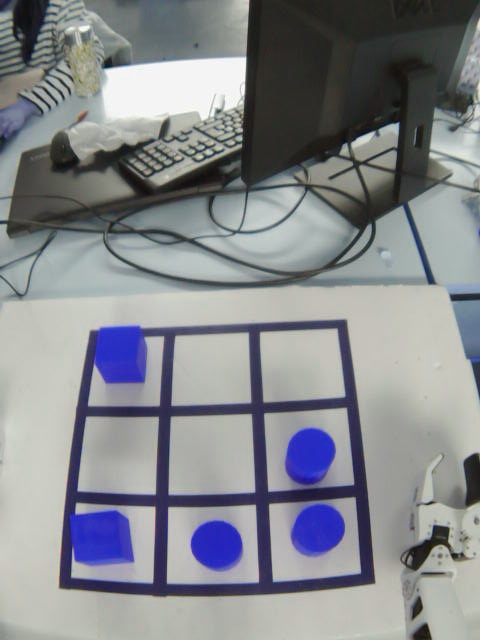cube: (62, 503, 144, 573), (88, 319, 156, 392)
cylinder: (284, 495, 357, 569), (275, 421, 345, 492), (183, 513, 252, 577)
empty: (162, 407, 263, 503), (74, 408, 167, 503), (254, 324, 354, 408), (166, 328, 258, 413)
